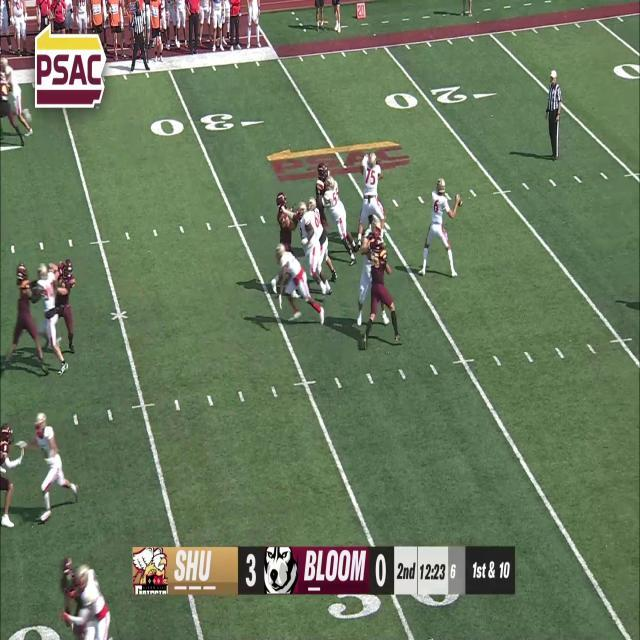football: (455, 194, 463, 208)
